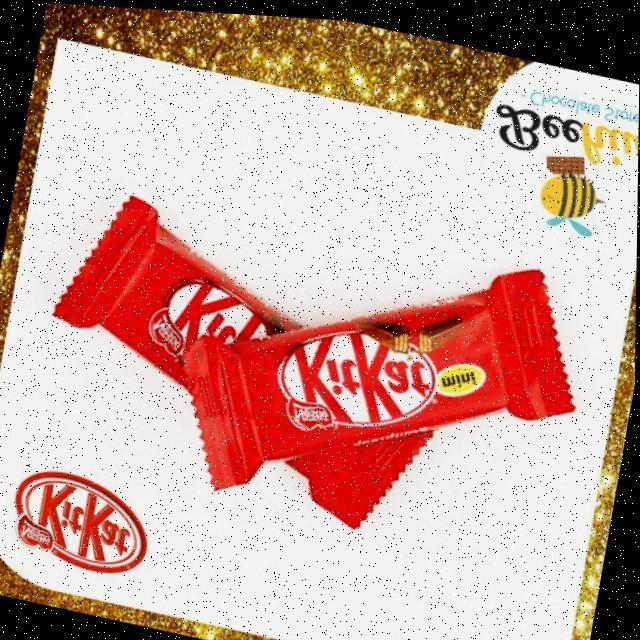kitkat_chocolate: (84, 218, 428, 505), (222, 283, 562, 477)
